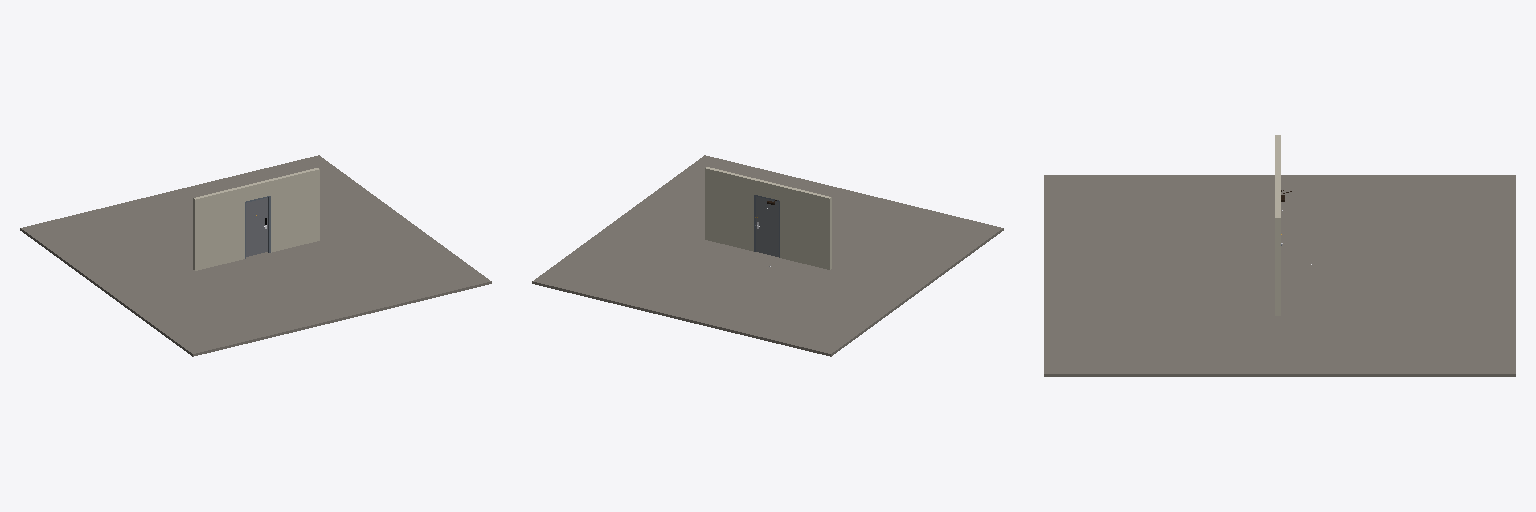
robot.urdf — db0953_swing_single_full:
<?xml version="1.0" ?>
<robot xmlns:doorbench="https://github.com/adamraudonis/DoorBench/schema/urdf-ext" name="db0953_swing_single_full">
  <link name="world_env">
    <visual name="floor_vis">
      <origin xyz="0 0 -0.05" rpy="0 0 0"/>
      <geometry>
        <box size="12 12 0.1"/>
      </geometry>
      <material name="mat_floor"/>
    </visual>
    <collision name="floor_col">
      <origin xyz="0 0 -0.05" rpy="0 0 0"/>
      <geometry>
        <box size="12 12 0.1"/>
      </geometry>
    </collision>
    <visual name="wall_left_vis">
      <origin xyz="-1.50525 -0.0435 1.3735" rpy="0 0 0"/>
      <geometry>
        <box size="1.9895 0.145 2.747"/>
      </geometry>
      <material name="mat_wall"/>
    </visual>
    <collision name="wall_left_col">
      <origin xyz="-1.50525 -0.0435 1.3735" rpy="0 0 0"/>
      <geometry>
        <box size="1.9895 0.145 2.747"/>
      </geometry>
    </collision>
    <visual name="wall_right_vis">
      <origin xyz="1.52025 -0.0435 1.3735" rpy="0 0 0"/>
      <geometry>
        <box size="1.9595 0.145 2.747"/>
      </geometry>
      <material name="mat_wall"/>
    </visual>
    <collision name="wall_right_col">
      <origin xyz="1.52025 -0.0435 1.3735" rpy="0 0 0"/>
      <geometry>
        <box size="1.9595 0.145 2.747"/>
      </geometry>
    </collision>
    <visual name="wall_header_vis">
      <origin xyz="0.015 -0.0435 2.487" rpy="0 0 0"/>
      <geometry>
        <box size="1.051 0.145 0.52"/>
      </geometry>
      <material name="mat_wall"/>
    </visual>
    <collision name="wall_header_col">
      <origin xyz="0.015 -0.0435 2.487" rpy="0 0 0"/>
      <geometry>
        <box size="1.051 0.145 0.52"/>
      </geometry>
    </collision>
    <visual name="hinge_0_jamb_vis">
      <origin xyz="-0.4575 0.029 0.259" rpy="3.141593 0 0"/>
      <geometry>
        <mesh filename="../../hardware/hinge_jamb_e1d088f8dc.obj"/>
      </geometry>
      <material name="mat_hinge"/>
    </visual>
    <visual name="hinge_1_jamb_vis">
      <origin xyz="-0.4575 0.029 1.076" rpy="3.141593 0 0"/>
      <geometry>
        <mesh filename="../../hardware/hinge_jamb_e1d088f8dc.obj"/>
      </geometry>
      <material name="mat_hinge"/>
    </visual>
    <visual name="hinge_2_jamb_vis">
      <origin xyz="-0.4575 0.029 1.963" rpy="3.141593 0 0"/>
      <geometry>
        <mesh filename="../../hardware/hinge_jamb_e1d088f8dc.obj"/>
      </geometry>
      <material name="mat_hinge"/>
    </visual>
    <visual name="leaf_chain_track_vis">
      <origin xyz="0.4915 0.034 1.34" rpy="0 0 0"/>
      <geometry>
        <box size="0.07 0.01 0.02"/>
      </geometry>
      <material name="mat_chain"/>
    </visual>
    <visual name="jamb_hinge_vis">
      <origin xyz="-0.4855 -0.0435 1.0735" rpy="0 0 0"/>
      <geometry>
        <box size="0.05 0.145 2.147"/>
      </geometry>
      <material name="mat_frame"/>
    </visual>
    <collision name="jamb_hinge_col">
      <origin xyz="-0.4855 -0.0435 1.0735" rpy="0 0 0"/>
      <geometry>
        <box size="0.05 0.145 2.147"/>
      </geometry>
    </collision>
    <visual name="strike_1040_wall_n_vis">
      <origin xyz="0.5005 -0.06275 1.04" rpy="0 0 0"/>
      <geometry>
        <box size="0.08 0.1065 0.036"/>
      </geometry>
      <material name="mat_frame"/>
    </visual>
    <collision name="strike_1040_wall_n_col">
      <origin xyz="0.5005 -0.06275 1.04" rpy="0 0 0"/>
      <geometry>
        <box size="0.08 0.1065 0.036"/>
      </geometry>
    </collision>
    <visual name="strike_1040_wall_p_vis">
      <origin xyz="0.5005 0.0175 1.04" rpy="0 0 0"/>
      <geometry>
        <box size="0.08 0.016 0.036"/>
      </geometry>
      <material name="mat_frame"/>
    </visual>
    <collision name="strike_1040_wall_p_col">
      <origin xyz="0.5005 0.0175 1.04" rpy="0 0 0"/>
      <geometry>
        <box size="0.08 0.016 0.036"/>
      </geometry>
    </collision>
    <visual name="strike_1040_ramp_vis">
      <origin xyz="0.503782 0.018312 1.04" rpy="0 0 -0.588003"/>
      <geometry>
        <box size="0.08 0.036056 0.036"/>
      </geometry>
      <material name="mat_frame"/>
    </visual>
    <collision name="strike_1040_ramp_col">
      <origin xyz="0.503782 0.018312 1.04" rpy="0 0 -0.588003"/>
      <geometry>
        <box size="0.08 0.036056 0.036"/>
      </geometry>
    </collision>
    <visual name="strike_1040_back_vis">
      <origin xyz="0.512 0 1.04" rpy="0 0 0"/>
      <geometry>
        <box size="0.057 0.019 0.036"/>
      </geometry>
      <material name="mat_frame"/>
    </visual>
    <collision name="strike_1040_back_col">
      <origin xyz="0.512 0 1.04" rpy="0 0 0"/>
      <geometry>
        <box size="0.057 0.019 0.036"/>
      </geometry>
    </collision>
    <visual name="jamb_strike_0_vis">
      <origin xyz="0.5005 -0.0435 0.511" rpy="0 0 0"/>
      <geometry>
        <box size="0.08 0.145 1.022"/>
      </geometry>
      <material name="mat_frame"/>
    </visual>
    <collision name="jamb_strike_0_col">
      <origin xyz="0.5005 -0.0435 0.511" rpy="0 0 0"/>
      <geometry>
        <box size="0.08 0.145 1.022"/>
      </geometry>
    </collision>
    <visual name="jamb_strike_1_vis">
      <origin xyz="0.5005 -0.0435 1.6025" rpy="0 0 0"/>
      <geometry>
        <box size="0.08 0.145 1.089"/>
      </geometry>
      <material name="mat_frame"/>
    </visual>
    <collision name="jamb_strike_1_col">
      <origin xyz="0.5005 -0.0435 1.6025" rpy="0 0 0"/>
      <geometry>
        <box size="0.08 0.145 1.089"/>
      </geometry>
    </collision>
    <visual name="jamb_head_vis">
      <origin xyz="0.015 -0.0435 2.172" rpy="0 0 0"/>
      <geometry>
        <box size="1.051 0.145 0.05"/>
      </geometry>
      <material name="mat_frame"/>
    </visual>
    <collision name="jamb_head_col">
      <origin xyz="0.015 -0.0435 2.172" rpy="0 0 0"/>
      <geometry>
        <box size="1.051 0.145 0.05"/>
      </geometry>
    </collision>
    <visual name="head_stud_vis">
      <origin xyz="0.015 -0.0435 2.212" rpy="0 0 0"/>
      <geometry>
        <box size="1.051 0.145 0.03"/>
      </geometry>
      <material name="mat_wall"/>
    </visual>
    <collision name="head_stud_col">
      <origin xyz="0.015 -0.0435 2.212" rpy="0 0 0"/>
      <geometry>
        <box size="1.051 0.145 0.03"/>
      </geometry>
    </collision>
    <visual name="stop_hinge_vis">
      <origin xyz="-0.455 -0.0385 1.0735" rpy="0 0 0"/>
      <geometry>
        <box size="0.011 0.032 2.147"/>
      </geometry>
      <material name="mat_frame"/>
    </visual>
    <collision name="stop_hinge_col">
      <origin xyz="-0.455 -0.0385 1.0735" rpy="0 0 0"/>
      <geometry>
        <box size="0.011 0.032 2.147"/>
      </geometry>
    </collision>
    <visual name="stop_strike_vis">
      <origin xyz="0.455 -0.0385 1.0735" rpy="0 0 0"/>
      <geometry>
        <box size="0.011 0.032 2.147"/>
      </geometry>
      <material name="mat_frame"/>
    </visual>
    <collision name="stop_strike_col">
      <origin xyz="0.455 -0.0385 1.0735" rpy="0 0 0"/>
      <geometry>
        <box size="0.011 0.032 2.147"/>
      </geometry>
    </collision>
    <visual name="stop_head_vis">
      <origin xyz="0 -0.0385 2.1415" rpy="0 0 0"/>
      <geometry>
        <box size="0.921 0.032 0.011"/>
      </geometry>
      <material name="mat_frame"/>
    </visual>
    <collision name="stop_head_col">
      <origin xyz="0 -0.0385 2.1415" rpy="0 0 0"/>
      <geometry>
        <box size="0.921 0.032 0.011"/>
      </geometry>
    </collision>
    <visual name="seal_hinge_vis">
      <origin xyz="-0.4575 -0.0245 1.0735" rpy="0 0 0"/>
      <geometry>
        <box size="0.008 0.005 2.147"/>
      </geometry>
      <material name="mat_seal"/>
    </visual>
    <visual name="seal_strike_vis">
      <origin xyz="0.4575 -0.0245 1.0735" rpy="0 0 0"/>
      <geometry>
        <box size="0.008 0.005 2.147"/>
      </geometry>
      <material name="mat_seal"/>
    </visual>
    <visual name="seal_head_vis">
      <origin xyz="0 -0.0245 2.135" rpy="0 0 0"/>
      <geometry>
        <box size="0.881 0.005 0.016"/>
      </geometry>
      <material name="mat_seal"/>
    </visual>
    <visual name="closer_bracket_vis">
      <origin xyz="-0.3605 0.041 2.177" rpy="0 0 0"/>
      <geometry>
        <box size="0.06 0.024 0.028"/>
      </geometry>
      <material name="mat_closer"/>
    </visual>
    <visual name="floor_stop_dome_vis">
      <origin xyz="-0.545135 0.801201 0" rpy="0 0 0"/>
      <geometry>
        <sphere radius="0.025"/>
      </geometry>
      <material name="mat_stop"/>
    </visual>
    <collision name="floor_stop_dome_col">
      <origin xyz="-0.545135 0.801201 0" rpy="0 0 0"/>
      <geometry>
        <sphere radius="0.025"/>
      </geometry>
    </collision>
  </link>
  <link name="leaf">
    <inertial>
      <origin xyz="0.427064 -0.014792 1.272753" rpy="0 0 0"/>
      <mass value="64.096817"/>
      <inertia ixx="28.974233043" ixy="0.13240586" ixz="1.589905485" iyy="33.002068659" iyz="-0.717986558" izz="4.174099661"/>
    </inertial>
    <visual name="leaf_slab_vis">
      <origin xyz="0.457 -0.029 1.076" rpy="0 0 0"/>
      <geometry>
        <box size="0.914 0.044 2.134"/>
      </geometry>
      <material name="mat_leaf"/>
    </visual>
    <collision name="leaf_slab_col">
      <origin xyz="0.457 -0.029 1.076" rpy="0 0 0"/>
      <geometry>
        <box size="0.914 0.044 2.134"/>
      </geometry>
    </collision>
    <visual name="hinge_0_vis">
      <origin xyz="0 0 0.259" rpy="3.141593 0 0"/>
      <geometry>
        <mesh filename="../../hardware/hinge_e22b26c0c1.obj"/>
      </geometry>
      <material name="mat_hinge"/>
    </visual>
    <visual name="hinge_1_vis">
      <origin xyz="0 0 1.076" rpy="3.141593 0 0"/>
      <geometry>
        <mesh filename="../../hardware/hinge_e22b26c0c1.obj"/>
      </geometry>
      <material name="mat_hinge"/>
    </visual>
    <visual name="hinge_2_vis">
      <origin xyz="0 0 1.963" rpy="3.141593 0 0"/>
      <geometry>
        <mesh filename="../../hardware/hinge_e22b26c0c1.obj"/>
      </geometry>
      <material name="mat_hinge"/>
    </visual>
    <visual name="leaf_handle_escutcheon_n_vis">
      <origin xyz="0.844 -0.0525 1.04" rpy="0 0 0"/>
      <geometry>
        <box size="0.075 0.003 0.26"/>
      </geometry>
      <material name="mat_op_chrome"/>
    </visual>
    <visual name="leaf_handle_escutcheon_p_vis">
      <origin xyz="0.844 -0.0055 1.04" rpy="0 0 0"/>
      <geometry>
        <box size="0.075 0.003 0.26"/>
      </geometry>
      <material name="mat_op_chrome"/>
    </visual>
    <visual name="leaf_handle_reader_vis">
      <origin xyz="0.844 -0.051 1.2" rpy="1.570796 0 0"/>
      <geometry>
        <mesh filename="../../hardware/card_reader_38c0bdb077.obj"/>
      </geometry>
      <material name="mat_reader"/>
    </visual>
    <visual name="leaf_latch_bolt_faceplate_vis">
      <origin xyz="0.9134 -0.029 1.04" rpy="0 0 0"/>
      <geometry>
        <box size="0.0012 0.028 0.056"/>
      </geometry>
      <material name="mat_bolt"/>
    </visual>
    <visual name="leaf_chain_plate_vis">
      <origin xyz="0.864 -0.005 1.34" rpy="0 0 0"/>
      <geometry>
        <box size="0.024 0.004 0.04"/>
      </geometry>
      <material name="mat_chain"/>
    </visual>
    <visual name="leaf_chain_0_vis">
      <origin xyz="0.869167 0.001333 1.339" rpy="-2.819842 1.36954 -2.749248"/>
      <geometry>
        <cylinder radius="0.003" length="0.012546"/>
      </geometry>
      <material name="mat_chain"/>
    </visual>
    <visual name="leaf_chain_1_vis">
      <origin xyz="0.8795 0.002 1.337" rpy="-2.819842 1.36954 -2.749248"/>
      <geometry>
        <cylinder radius="0.003" length="0.012546"/>
      </geometry>
      <material name="mat_chain"/>
    </visual>
    <visual name="leaf_chain_2_vis">
      <origin xyz="0.889833 0.002667 1.335" rpy="-2.819842 1.36954 -2.749248"/>
      <geometry>
        <cylinder radius="0.003" length="0.012546"/>
      </geometry>
      <material name="mat_chain"/>
    </visual>
    <visual name="leaf_chain_3_vis">
      <origin xyz="0.900167 0.003333 1.333" rpy="-2.819842 1.36954 -2.749248"/>
      <geometry>
        <cylinder radius="0.003" length="0.012546"/>
      </geometry>
      <material name="mat_chain"/>
    </visual>
    <visual name="leaf_chain_4_vis">
      <origin xyz="0.9105 0.004 1.331" rpy="-2.819842 1.36954 -2.749248"/>
      <geometry>
        <cylinder radius="0.003" length="0.012546"/>
      </geometry>
      <material name="mat_chain"/>
    </visual>
    <visual name="leaf_chain_5_vis">
      <origin xyz="0.920833 0.004667 1.329" rpy="-2.819842 1.36954 -2.749248"/>
      <geometry>
        <cylinder radius="0.003" length="0.012546"/>
      </geometry>
      <material name="mat_chain"/>
    </visual>
    <visual name="closer_body_vis">
      <origin xyz="0.297 -0.007 2.054" rpy="-1.570796 0 0"/>
      <geometry>
        <mesh filename="../../hardware/closer_body_fdc4667657.obj"/>
      </geometry>
      <material name="mat_closer"/>
    </visual>
    <collision name="closer_body_col_col">
      <origin xyz="0.297 0.043 2.054" rpy="0 0 0"/>
      <geometry>
        <box size="0.29 0.1 0.07"/>
      </geometry>
    </collision>
    <visual name="closer_pinion_shaft_vis">
      <origin xyz="0.297 0.043 2.1155" rpy="0 0 0"/>
      <geometry>
        <cylinder radius="0.008" length="0.123"/>
      </geometry>
      <material name="mat_closer"/>
    </visual>
    <visual name="peephole_vis">
      <origin xyz="0.457 -0.051 1.509" rpy="1.570796 0 0"/>
      <geometry>
        <mesh filename="../../hardware/peephole_f829311a59.obj"/>
      </geometry>
      <material name="mat_peephole"/>
    </visual>
    <visual name="coat_hook_vis">
      <origin xyz="0.457 -0.007 1.793" rpy="-1.570796 0 0"/>
      <geometry>
        <mesh filename="../../hardware/coat_hook_d622d37ad0.obj"/>
      </geometry>
      <material name="mat_hook"/>
    </visual>
  </link>
  <link name="leaf_handle">
    <inertial>
      <origin xyz="-0.034904 0 0" rpy="0 0 0"/>
      <mass value="0.739068"/>
      <inertia ixx="0.003272501" ixy="0" ixz="0" iyy="0.001260094" iyz="0" izz="0.004494637"/>
    </inertial>
    <visual name="leaf_handle_spindle_vis">
      <origin xyz="0 0 0" rpy="-1.570796 0 0"/>
      <geometry>
        <cylinder radius="0.006" length="0.068"/>
      </geometry>
      <material name="mat_op_chrome"/>
    </visual>
    <visual name="leaf_handle_lever_n_vis">
      <origin xyz="0 -0.022 0" rpy="1.570796 0 0"/>
      <geometry>
        <mesh filename="../../hardware/lever_56c65af20a.obj"/>
      </geometry>
      <material name="mat_op_chrome"/>
    </visual>
    <collision name="leaf_handle_lever_col_n_col">
      <origin xyz="-0.06 -0.077 0" rpy="0 -1.570796 0"/>
      <geometry>
        <cylinder radius="0.0095" length="0.101"/>
      </geometry>
    </collision>
    <collision name="leaf_handle_hub_col_n_col">
      <origin xyz="0 -0.052 0" rpy="-1.570796 0 0"/>
      <geometry>
        <cylinder radius="0.012" length="0.044"/>
      </geometry>
    </collision>
    <visual name="leaf_handle_lever_p_vis">
      <origin xyz="0 0.022 0" rpy="-1.570796 0 0"/>
      <geometry>
        <mesh filename="../../hardware/lever_56c65af20a.obj"/>
      </geometry>
      <material name="mat_op_chrome"/>
    </visual>
    <collision name="leaf_handle_lever_col_p_col">
      <origin xyz="-0.06 0.077 0" rpy="0 -1.570796 0"/>
      <geometry>
        <cylinder radius="0.0095" length="0.101"/>
      </geometry>
    </collision>
    <collision name="leaf_handle_hub_col_p_col">
      <origin xyz="0 0.052 0" rpy="-1.570796 0 0"/>
      <geometry>
        <cylinder radius="0.012" length="0.044"/>
      </geometry>
    </collision>
  </link>
  <link name="leaf_latch_bolt">
    <inertial>
      <origin xyz="-0.0055 0 0" rpy="0 0 0"/>
      <mass value="0.074627"/>
      <inertia ixx="0.000002271" ixy="0" ixz="0" iyy="0.000013255" iyz="0" izz="0.000013255"/>
    </inertial>
    <visual name="leaf_latch_bolt_capsule_vis">
      <origin xyz="-0.0055 0 0" rpy="0 1.570796 0"/>
      <geometry>
        <cylinder radius="0.008" length="0.033"/>
      </geometry>
      <material name="mat_bolt"/>
    </visual>
    <collision name="leaf_latch_bolt_capsule_col">
      <origin xyz="-0.0055 0 0" rpy="0 1.570796 0"/>
      <geometry>
        <cylinder radius="0.008" length="0.033"/>
      </geometry>
    </collision>
  </link>
  <link name="closer_arm_main">
    <inertial>
      <origin xyz="0.14 0 0" rpy="0 0 0"/>
      <mass value="0.12096"/>
      <inertia ixx="0.000003588" ixy="0" ixz="0" iyy="0.00079128" iyz="0" izz="0.000792852"/>
    </inertial>
    <visual name="closer_arm_main_geom_vis">
      <origin xyz="0.14 0 0" rpy="0 0 0"/>
      <geometry>
        <box size="0.28 0.016 0.01"/>
      </geometry>
      <material name="mat_closer"/>
    </visual>
  </link>
  <link name="closer_arm_fore">
    <inertial>
      <origin xyz="0.128088 0 0" rpy="0 0 0"/>
      <mass value="0.076531"/>
      <inertia ixx="0.000001771" ixy="0" ixz="0" iyy="0.000437665" iyz="0" izz="0.000438201"/>
    </inertial>
    <visual name="closer_arm_fore_geom_vis">
      <origin xyz="0.1125 0 0" rpy="0 0 0"/>
      <geometry>
        <box size="0.225 0.014 0.008"/>
      </geometry>
      <material name="mat_closer"/>
    </visual>
    <visual name="closer_fore_neck_vis">
      <origin xyz="0.2425 0 0" rpy="0 0 0"/>
      <geometry>
        <box size="0.035 0.006 0.006"/>
      </geometry>
      <material name="mat_closer"/>
    </visual>
    <visual name="closer_fore_pivot_vis">
      <origin xyz="0.26 0 0" rpy="0 0 0"/>
      <geometry>
        <cylinder radius="0.005" length="0.024"/>
      </geometry>
      <material name="mat_closer"/>
    </visual>
  </link>
  <joint name="leaf_hinge" type="revolute">
    <origin xyz="-0.4575 0.029 0" rpy="0 0 0"/>
    <parent link="world_env"/>
    <child link="leaf"/>
    <axis xyz="0 0 1"/>
    <limit lower="0" upper="0.098439" effort="2000" velocity="10"/>
    <dynamics damping="12.268966" friction="2.567838"/>
    <doorbench:spring stiffness="15.011494" springref="-1.939847" note="tau = -stiffness*(q - springref); not native URDF"/>
    <doorbench:closer damping_closing="81" damping_opening="12" backcheck_angle="1.22" backcheck_damping="60"/>
    <doorbench:note text="Door chain (engaged; limits opening ~ 8 cm): opening limited to 5.6 deg"/>
  </joint>
  <joint name="leaf_handle_hinge" type="revolute">
    <origin xyz="0.844 -0.029 1.04" rpy="0 0 0"/>
    <parent link="leaf"/>
    <child link="leaf_handle"/>
    <axis xyz="0 -1 0"/>
    <limit lower="0" upper="0.87" effort="2000" velocity="10"/>
    <dynamics damping="0.231314" friction="0.06"/>
    <doorbench:spring stiffness="1.1" springref="-0.454545" note="tau = -stiffness*(q - springref); not native URDF"/>
  </joint>
  <joint name="leaf_latch_bolt_slide" type="prismatic">
    <origin xyz="0.914 -0.029 1.04" rpy="0 0 0"/>
    <parent link="leaf"/>
    <child link="leaf_latch_bolt"/>
    <axis xyz="-1 0 0"/>
    <limit lower="0" upper="0.019" effort="5000" velocity="10"/>
    <dynamics damping="2" friction="0.3"/>
    <doorbench:spring stiffness="550" springref="-0.01" note="tau = -stiffness*(q - springref); not native URDF"/>
    <mimic joint="leaf_handle_hinge" multiplier="0.023457" offset="0"/>
    <doorbench:coupling one_sided="true" note="MJCF uses a one-sided tendon (bolt may retract further, e.g. riding over the strike lip); mimic is bilateral"/>
  </joint>
  <joint name="closer_pinion" type="continuous">
    <origin xyz="0.297 0.043 2.177" rpy="0 0 2.198853"/>
    <parent link="leaf"/>
    <child link="closer_arm_main"/>
    <axis xyz="0 0 1"/>
    <dynamics damping="0.01" friction="0"/>
  </joint>
  <joint name="closer_elbow" type="continuous">
    <origin xyz="0.28 0 0" rpy="0 0 2.376649"/>
    <parent link="closer_arm_main"/>
    <child link="closer_arm_fore"/>
    <axis xyz="0 0 1"/>
    <dynamics damping="0.01" friction="0"/>
  </joint>
  <material name="mat_bolt">
    <color rgba="0.75 0.76 0.77 1"/>
  </material>
  <material name="mat_chain">
    <color rgba="0.85 0.66 0.3 1"/>
  </material>
  <material name="mat_closer">
    <color rgba="0.22 0.17 0.13 1"/>
  </material>
  <material name="mat_floor">
    <color rgba="0.55 0.53 0.5 1"/>
  </material>
  <material name="mat_frame">
    <color rgba="0.45 0.48 0.52 1"/>
  </material>
  <material name="mat_hinge">
    <color rgba="0.65 0.66 0.68 1"/>
  </material>
  <material name="mat_hook">
    <color rgba="0.9 0.9 0.92 1"/>
  </material>
  <material name="mat_leaf">
    <color rgba="0.5 0.51 0.53 1"/>
  </material>
  <material name="mat_op_chrome">
    <color rgba="0.9 0.9 0.92 1"/>
  </material>
  <material name="mat_peephole">
    <color rgba="0.85 0.66 0.3 1"/>
  </material>
  <material name="mat_reader">
    <color rgba="0.05 0.05 0.05 1"/>
  </material>
  <material name="mat_seal">
    <color rgba="0.1 0.1 0.1 1"/>
  </material>
  <material name="mat_stop">
    <color rgba="0.9 0.9 0.92 1"/>
  </material>
  <material name="mat_wall">
    <color rgba="0.78 0.76 0.7 1"/>
  </material>
  <doorbench:loop_closure body1="closer_arm_fore" body2="world" anchor="0.26 0 0" label="Closer forearm pinned to frame shoe"/>
</robot>

--- Facts derived from the render (not from the file) ---
The picture shows the robot from 3 angles, left to right: view 1: azimuth 30°, elevation 25°; view 2: azimuth 150°, elevation 25°; view 3: azimuth 270°, elevation 25°; orthographic projection.
Robot: db0953_swing_single_full — 6 links, 5 joints (2 revolute, 2 continuous, 1 prismatic); root link world_env; default pose: every joint at zero.
Links seen in each view (by area): view 1: world_env, leaf; view 2: world_env, leaf; view 3: world_env.
Boxes of the visible links, <box> form: world_env: <box>20,155,491,356</box>; leaf: <box>246,198,267,256</box>; world_env: <box>532,155,1003,356</box>; leaf: <box>756,196,778,256</box>; world_env: <box>1044,135,1515,376</box>.
Bounding box of the posed robot: 12 × 12 × 2.85 m (x, y, z).
12 mesh visuals loaded from 7 distinct referenced files (7 OBJ).
